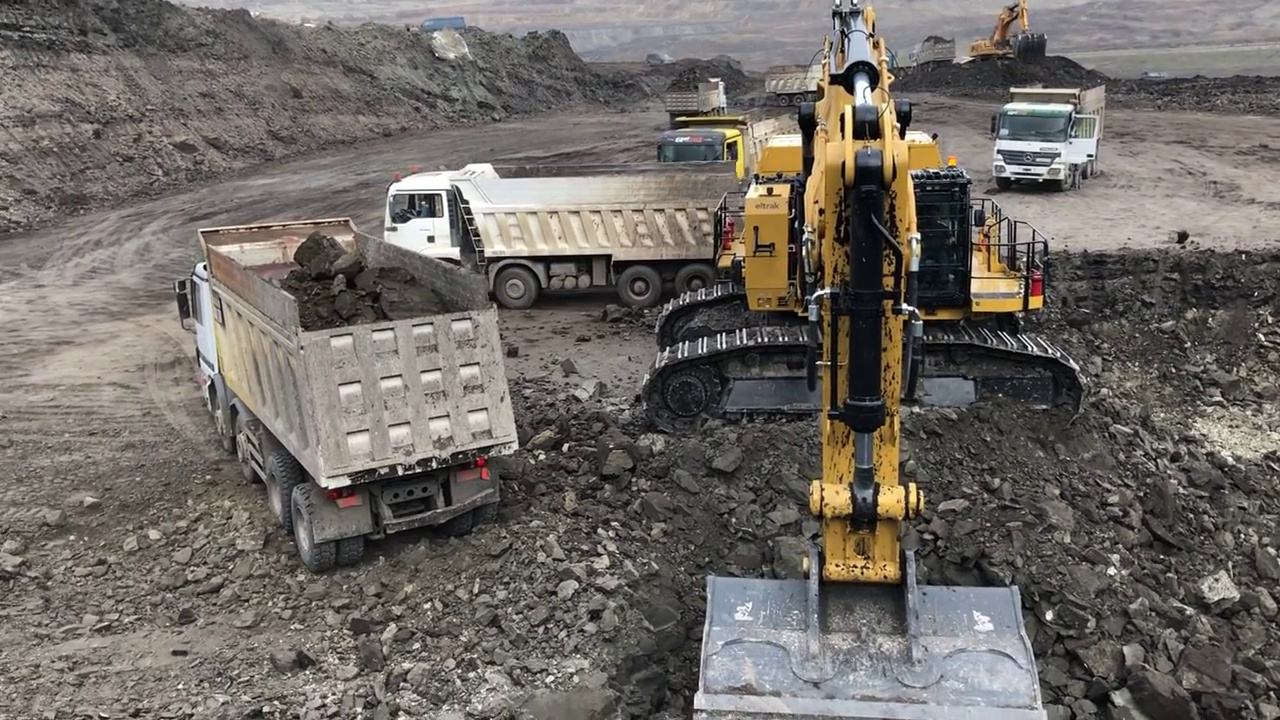excavator: (640, 4, 1092, 720), (972, 2, 1049, 63)
truck: (174, 212, 523, 571), (376, 163, 727, 308), (991, 85, 1108, 193), (665, 74, 734, 114)
